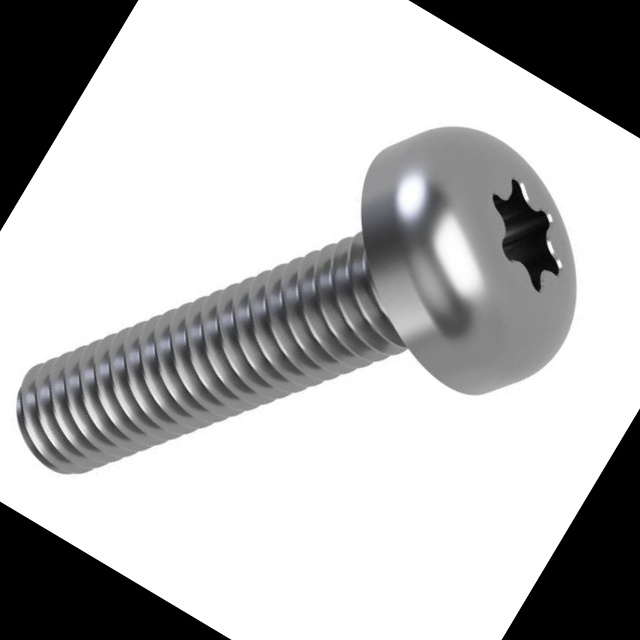torx: (286, 70, 640, 437)
